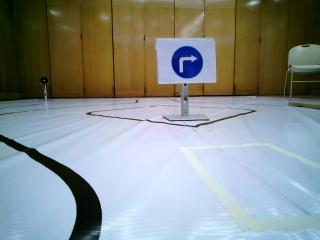right: (157, 36, 217, 81)
